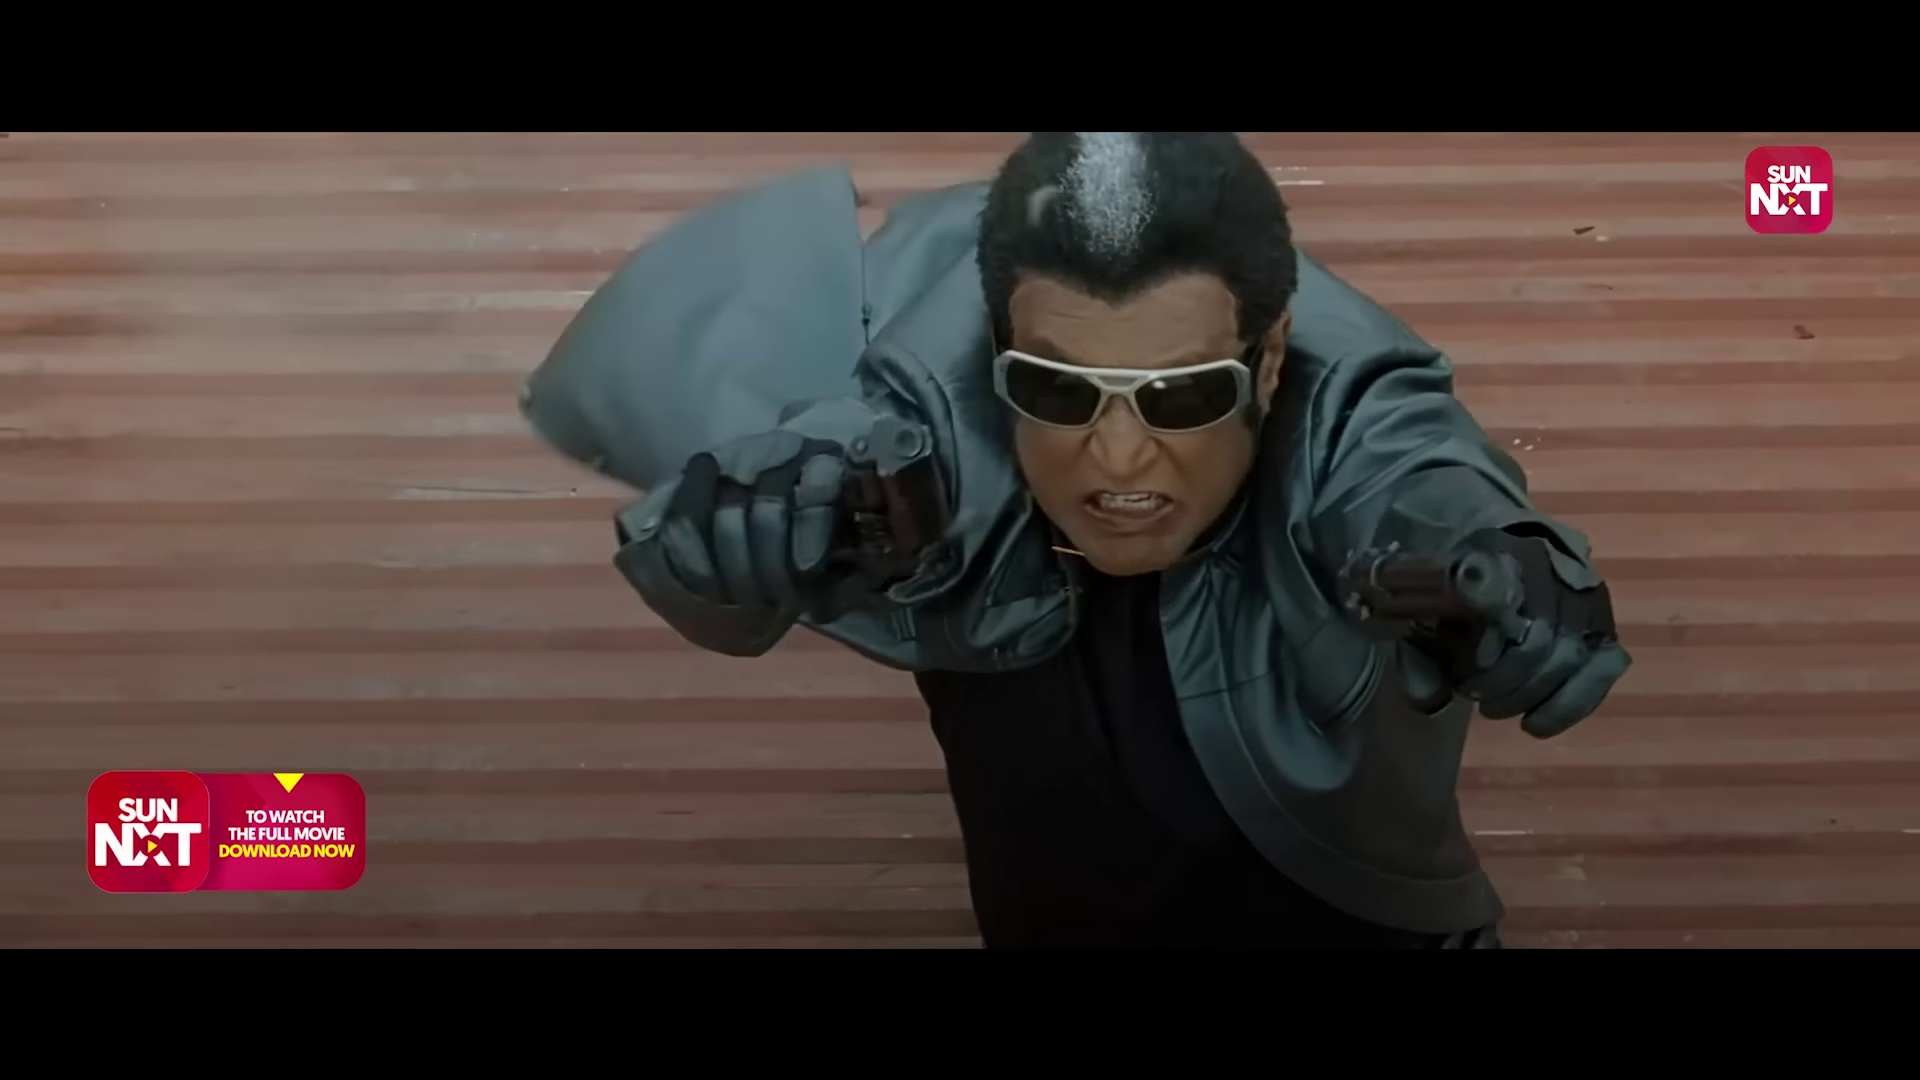gun: (1311, 530, 1535, 691), (791, 411, 961, 620)
p_w_gun: (618, 127, 1642, 957)
